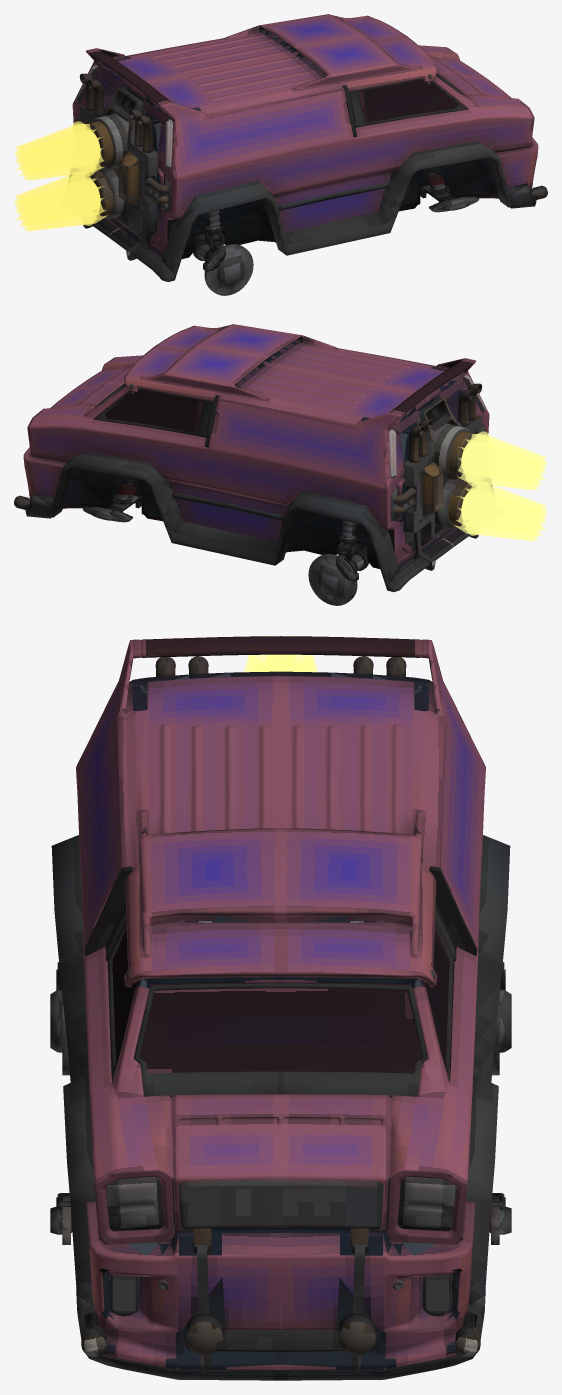
Rendered from Merc_Vanquish_ThreeWheel_Variant.glb.
3 renders of one model, top to bottom at view 1: azimuth 30°, elevation 25°; view 2: azimuth 150°, elevation 25°; view 3: azimuth 270°, elevation 25°, orthographic. The views are drawn at different scales.
Visible parts, largest first — view 1: Merc_Vanquish_ThreeWheel_Variant; view 2: Merc_Vanquish_ThreeWheel_Variant; view 3: Merc_Vanquish_ThreeWheel_Variant.
Part boxes in pixels (<box>): Merc_Vanquish_ThreeWheel_Variant: <box>14,14,547,295</box>; Merc_Vanquish_ThreeWheel_Variant: <box>14,324,547,605</box>; Merc_Vanquish_ThreeWheel_Variant: <box>50,634,511,1380</box>.
Bounding box in the file's own units: 1.7 × 0.6334 × 0.6907.
6 materials, 5 textured.
